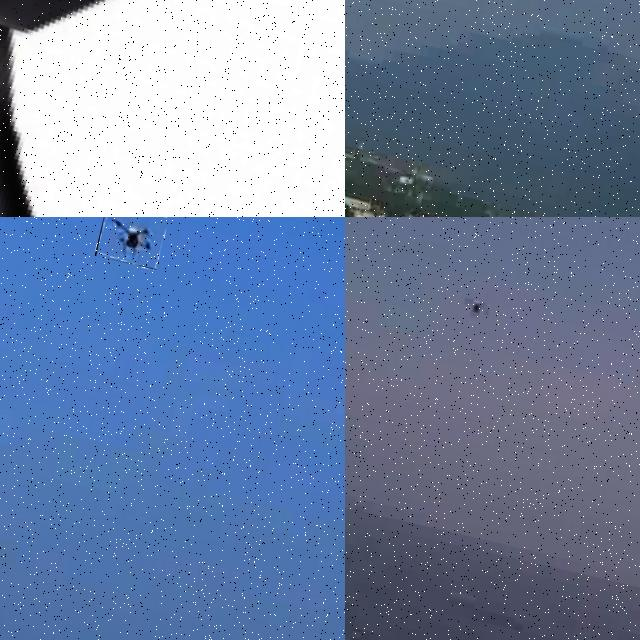0: (94, 217, 168, 269)
drone: (0, 0, 345, 217)
